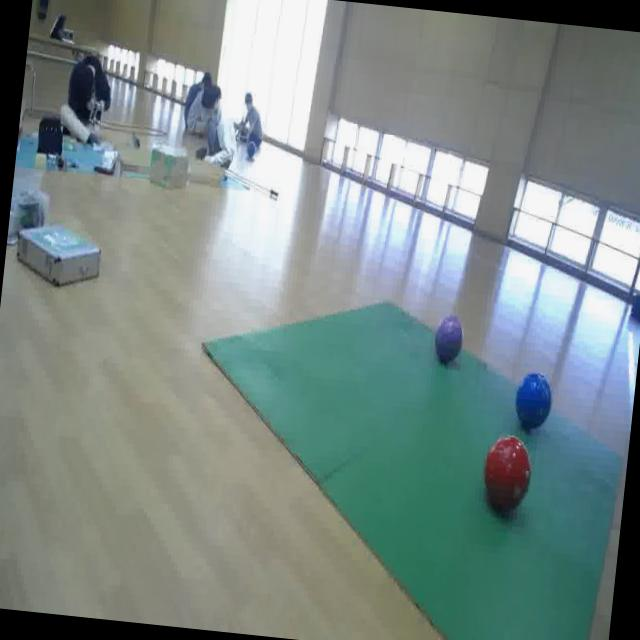blue_ball: (514, 367, 554, 433)
purple_ball: (433, 313, 468, 364)
red_ball: (483, 438, 535, 514)
